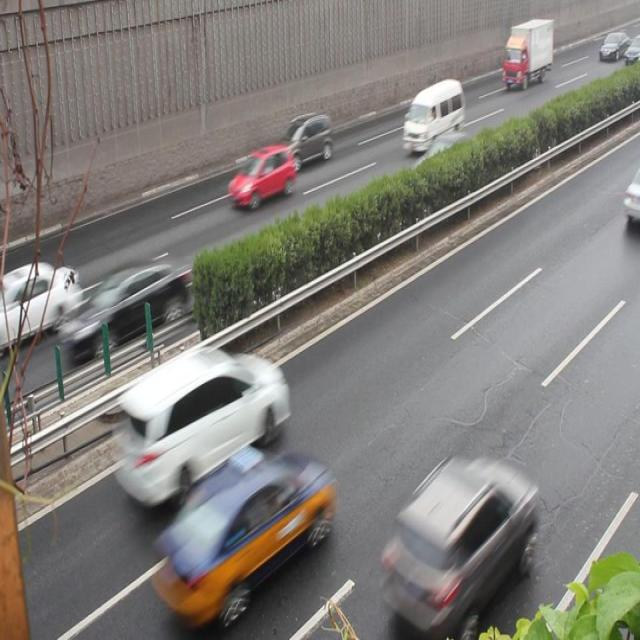bus: (501, 18, 553, 88)
car: (370, 450, 535, 640), (150, 451, 329, 620), (110, 346, 286, 506), (59, 261, 189, 367), (1, 262, 79, 344), (228, 144, 296, 209), (410, 133, 477, 194), (273, 112, 333, 170)
truck: (402, 79, 464, 151)
